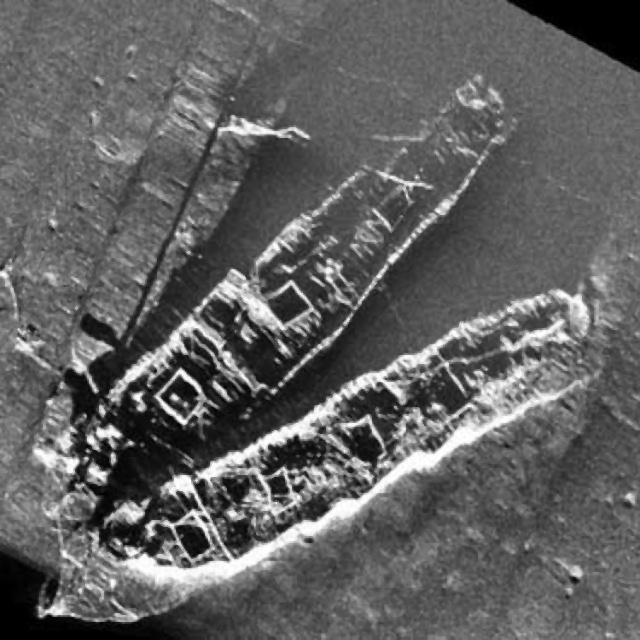Ship: (30, 53, 526, 496), (22, 285, 608, 626)
